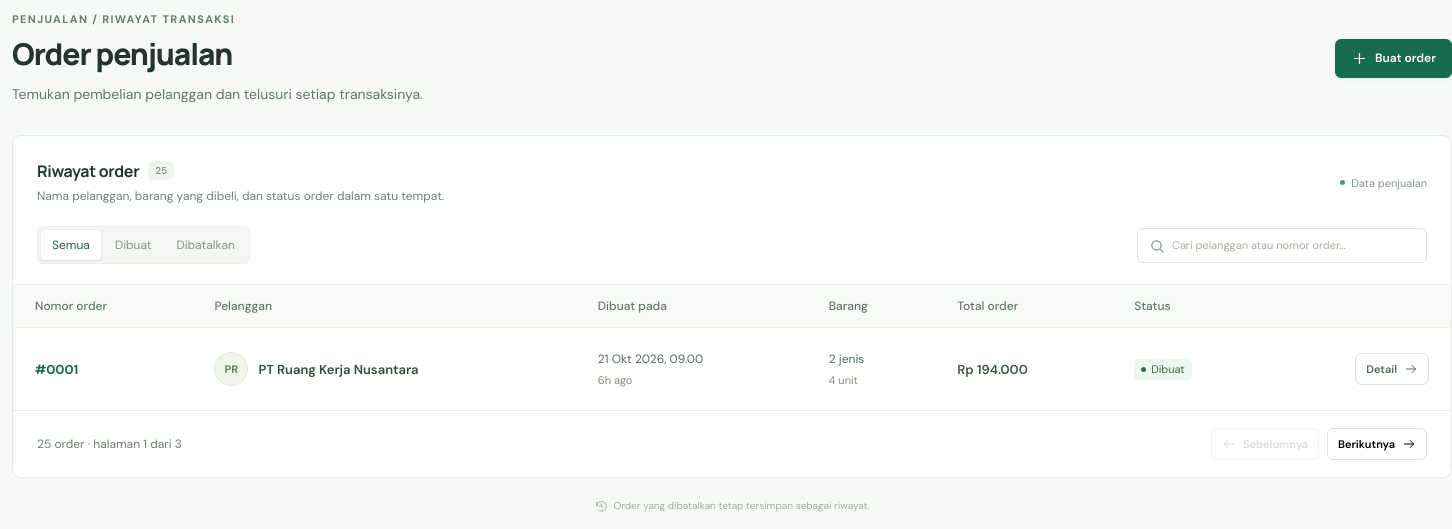
Test: blocks pagination until the new search is committed on page one
Click the button "Berikutnya" at (1377, 444), box [1327, 428, 1427, 460]
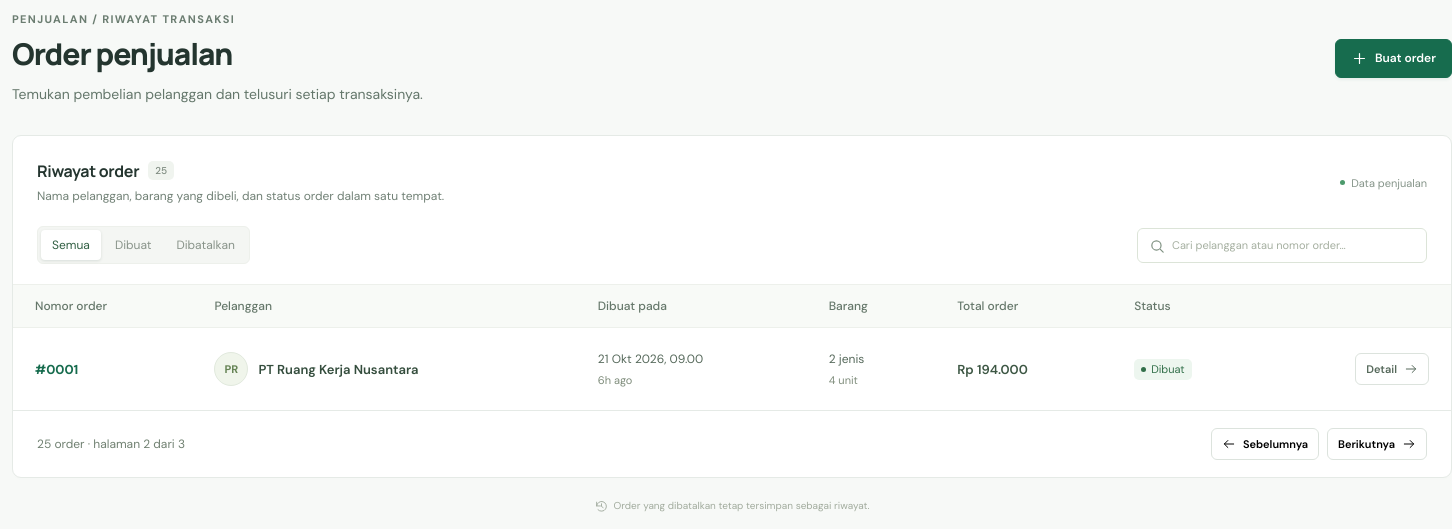
Expected: the text "25 order · halaman 2 dari 3" is shown, [37, 436, 185, 452]
Type "Sinar" into the field named "Cari order" at (1282, 245), box [1137, 228, 1427, 263]
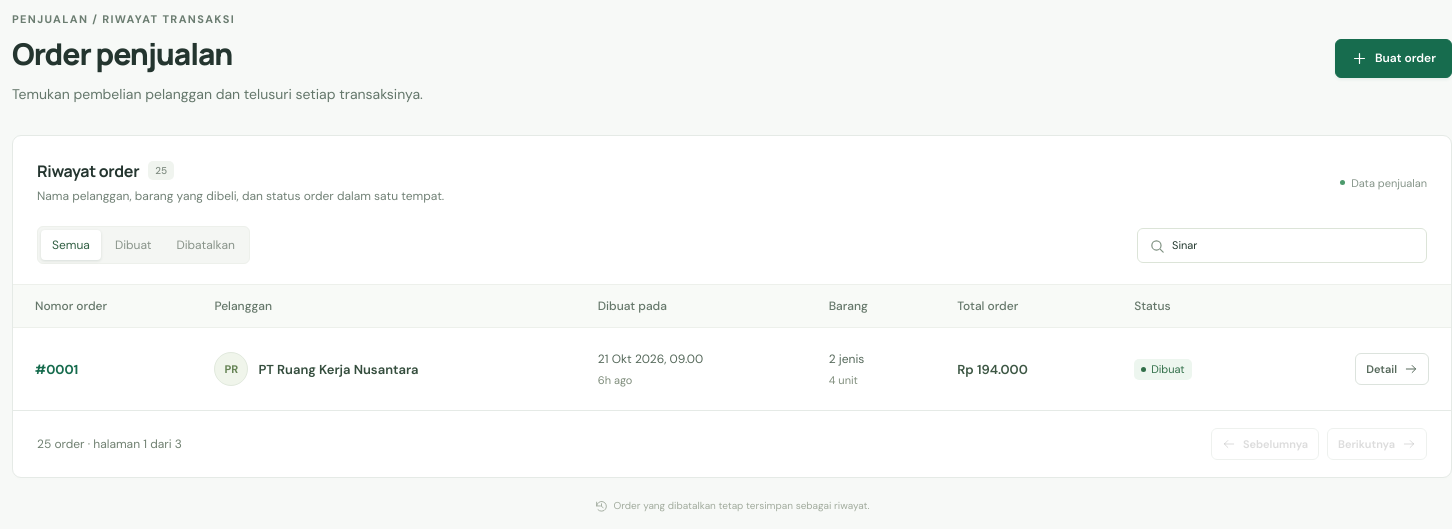
Expected: the button "Berikutnya" is disabled
Click the button "Berikutnya" at (1377, 444), box [1327, 428, 1427, 460]
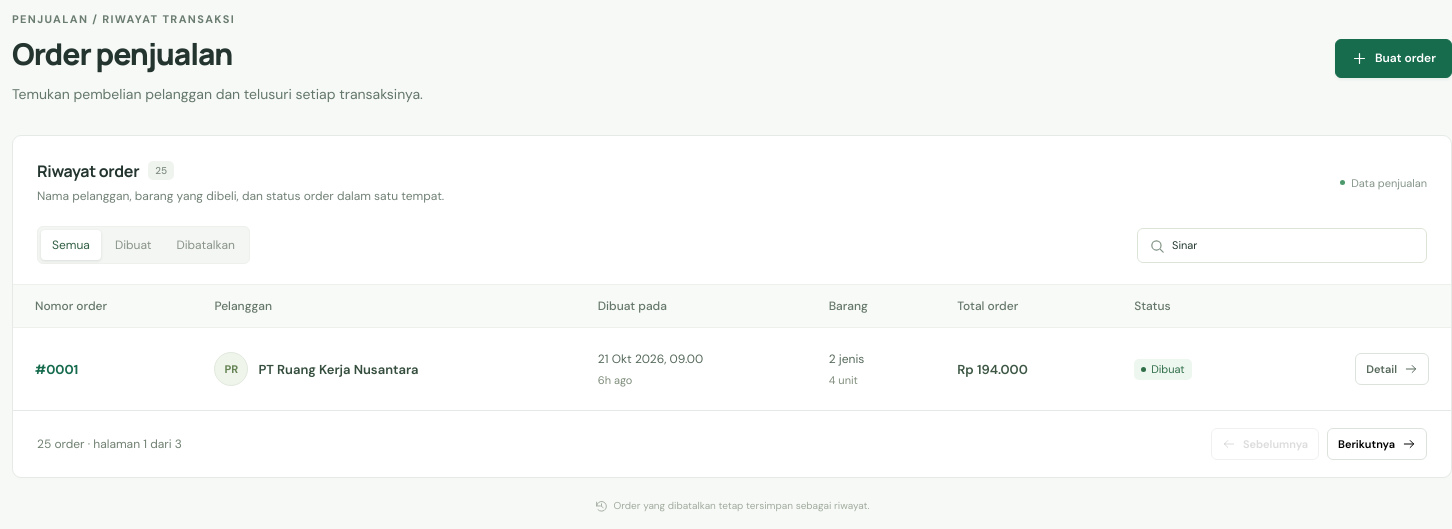
Expected: the button "Berikutnya" is enabled, [1327, 428, 1427, 460]
